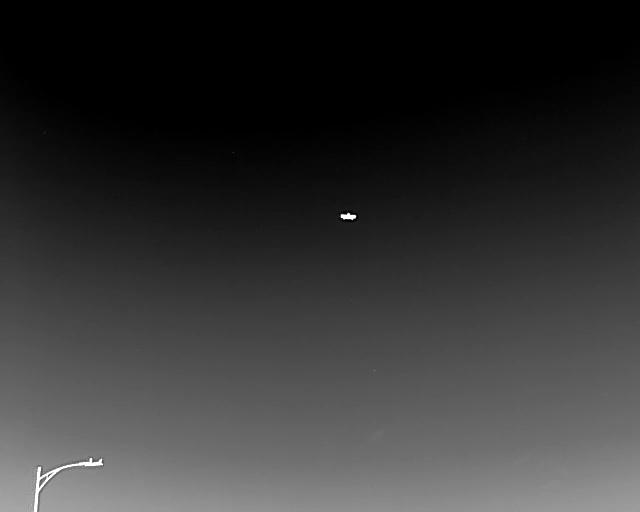fpv-drone: (339, 211, 357, 221)
